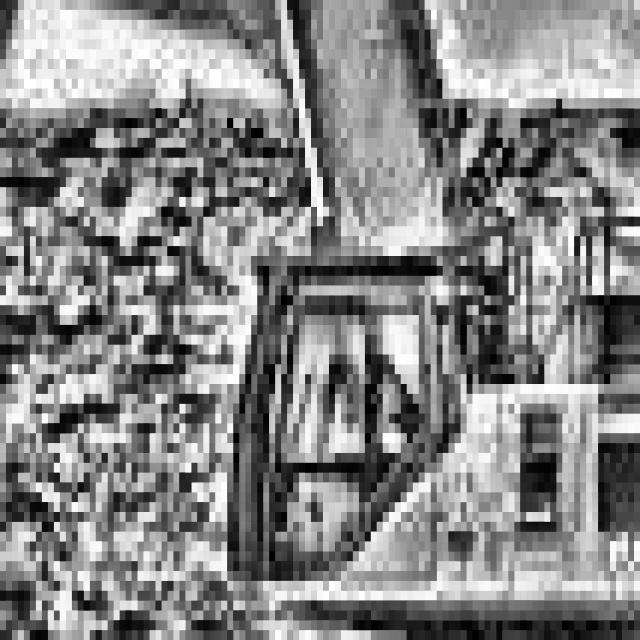excavator: (173, 147, 639, 640)
